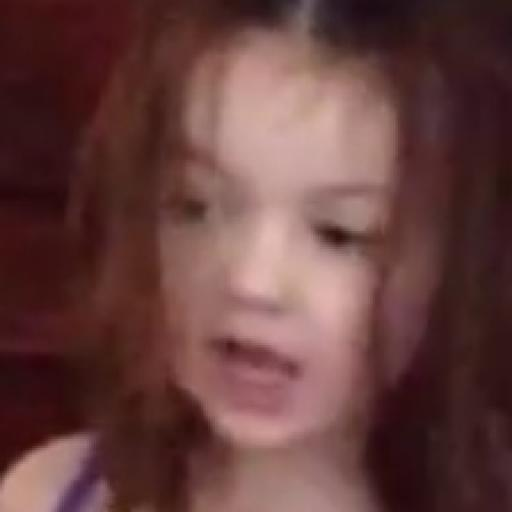Autism: (128, 1, 512, 512)
